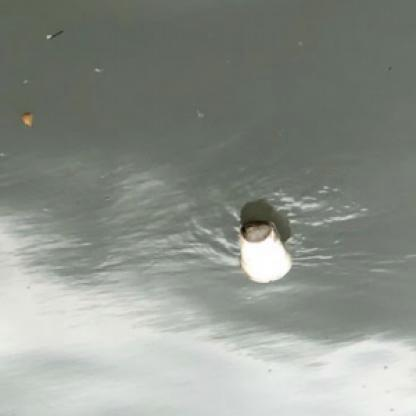Plastic: (237, 220, 294, 287)
